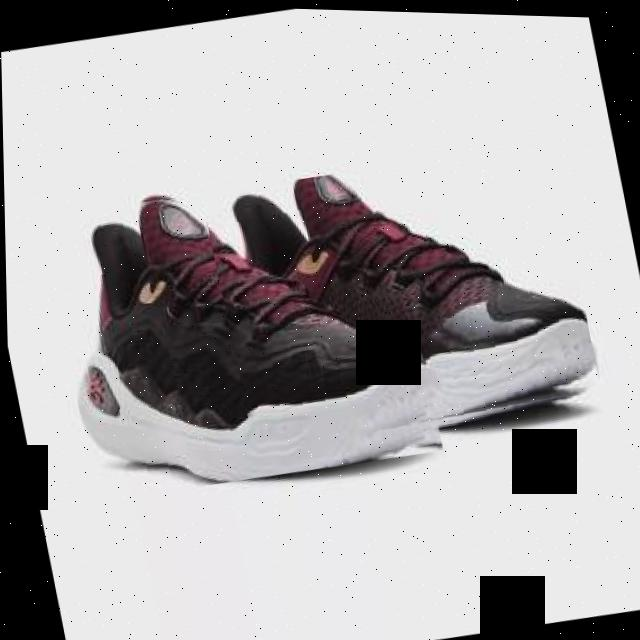shoe: (39, 150, 444, 509), (199, 130, 602, 461)
